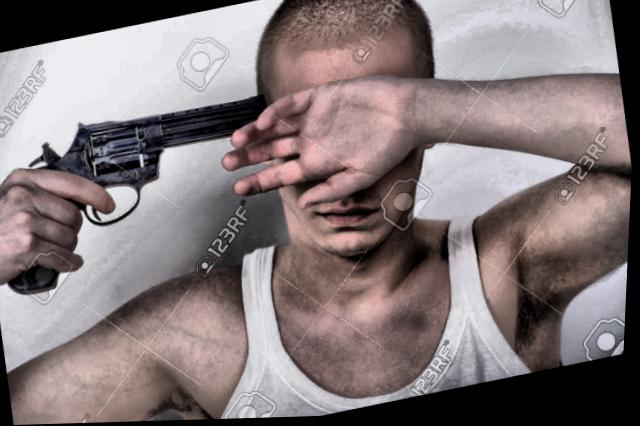pistol: (0, 93, 294, 300)
